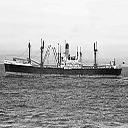Ships: (4, 34, 124, 79)
